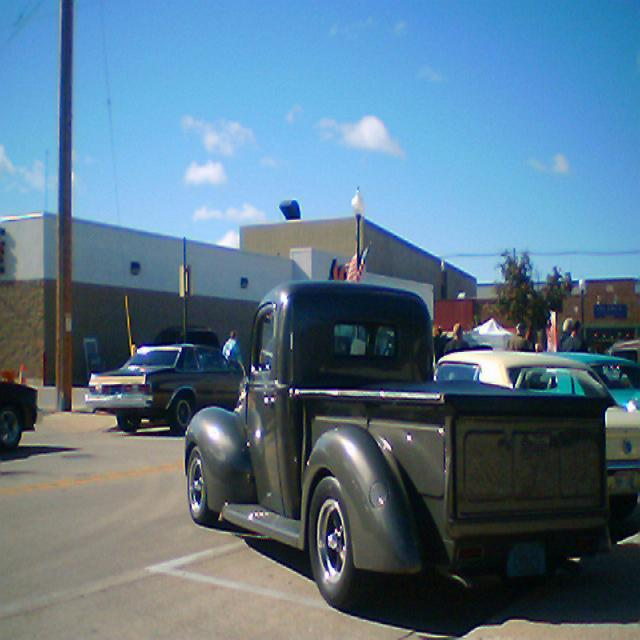Vehicle: (185, 280, 610, 610), (448, 346, 640, 506), (84, 344, 240, 436), (537, 350, 640, 411), (3, 379, 29, 451), (154, 327, 219, 348)
